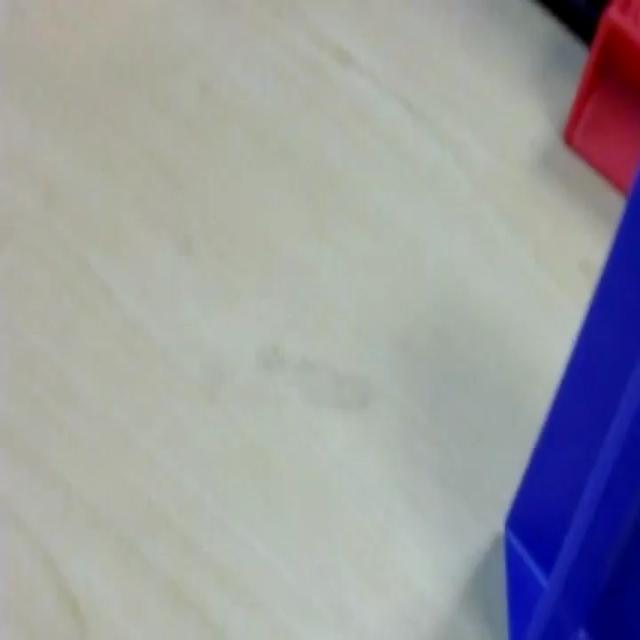blue_block: (502, 164, 638, 636)
red_block: (561, 0, 638, 197)
